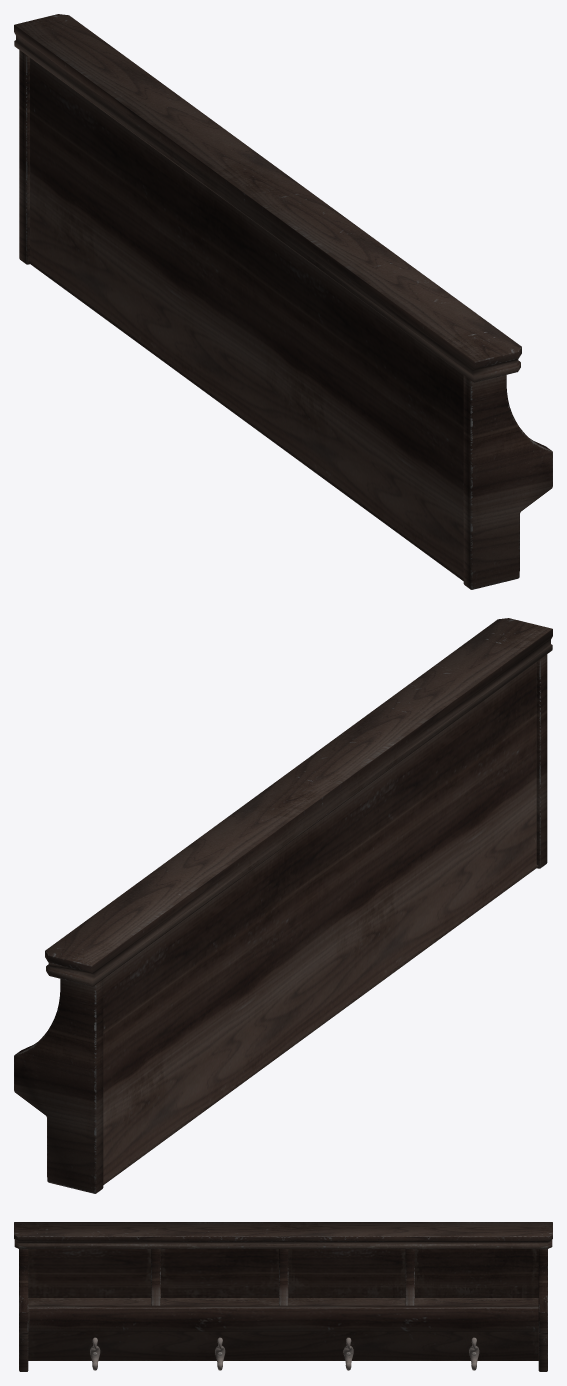
Rendered from coat_shelf.glb.
The picture shows the model from 3 angles, top to bottom: view 1: azimuth 30°, elevation 25°; view 2: azimuth 150°, elevation 25°; view 3: azimuth 270°, elevation 25°; orthographic projection. The views are drawn at different scales.
Parts seen in each view (by area): view 1: SM_ CoatRack_01_A; view 2: SM_ CoatRack_01_A; view 3: SM_ CoatRack_01_A.
Part boxes in pixels (x1=…): SM_ CoatRack_01_A: x1=14, y1=14, x2=552, y2=589; SM_ CoatRack_01_A: x1=14, y1=618, x2=552, y2=1193; SM_ CoatRack_01_A: x1=14, y1=1222, x2=552, y2=1371.
Size of the model in its own units: 0.1254 by 0.3401 by 1.2.
1 material, 1 textured.
